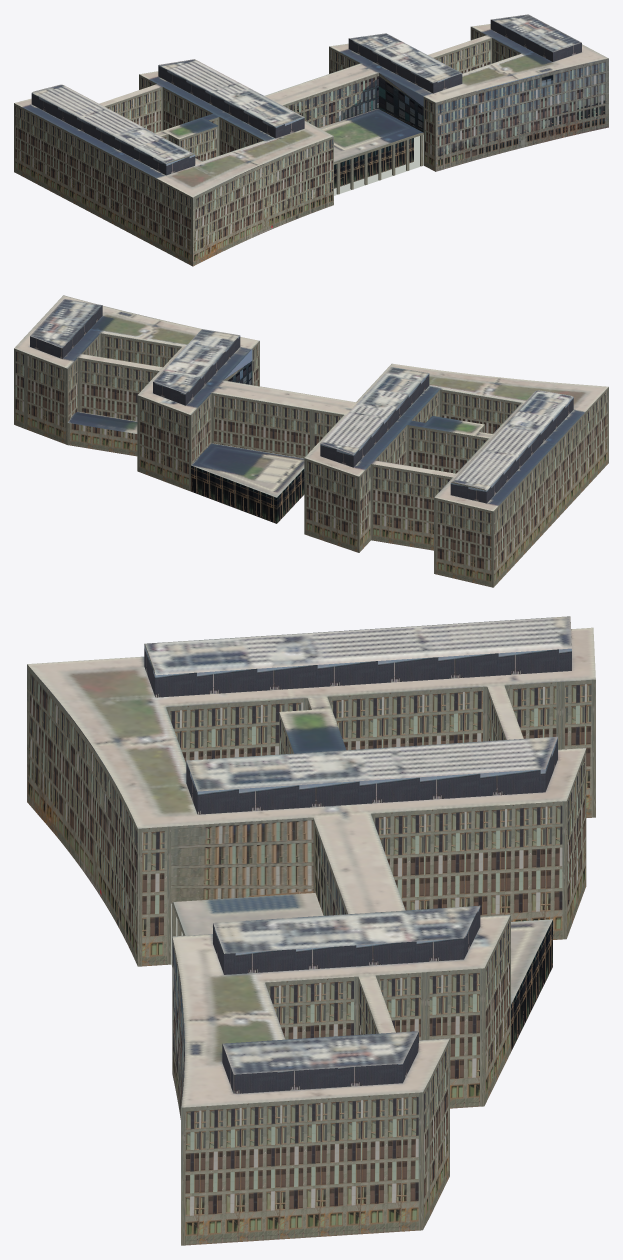
The model's file is bmftr-berlin.glb.
The picture shows the model from 3 angles, top to bottom: view 1: azimuth 30°, elevation 25°; view 2: azimuth 150°, elevation 25°; view 3: azimuth 270°, elevation 25°; orthographic projection. The views are drawn at different scales.
Visible parts, largest first — view 1: BMFTR Berlin photographic exterior; view 2: BMFTR Berlin photographic exterior; view 3: BMFTR Berlin photographic exterior.
Boxes of the visible parts, box(x1,y1,x2,y2) form: BMFTR Berlin photographic exterior: box(14, 14, 608, 266); BMFTR Berlin photographic exterior: box(14, 295, 608, 587); BMFTR Berlin photographic exterior: box(27, 616, 595, 1245).
Bounding box in the file's own units: 1 × 0.1582 × 0.5009.
3 materials, 1 textured.
